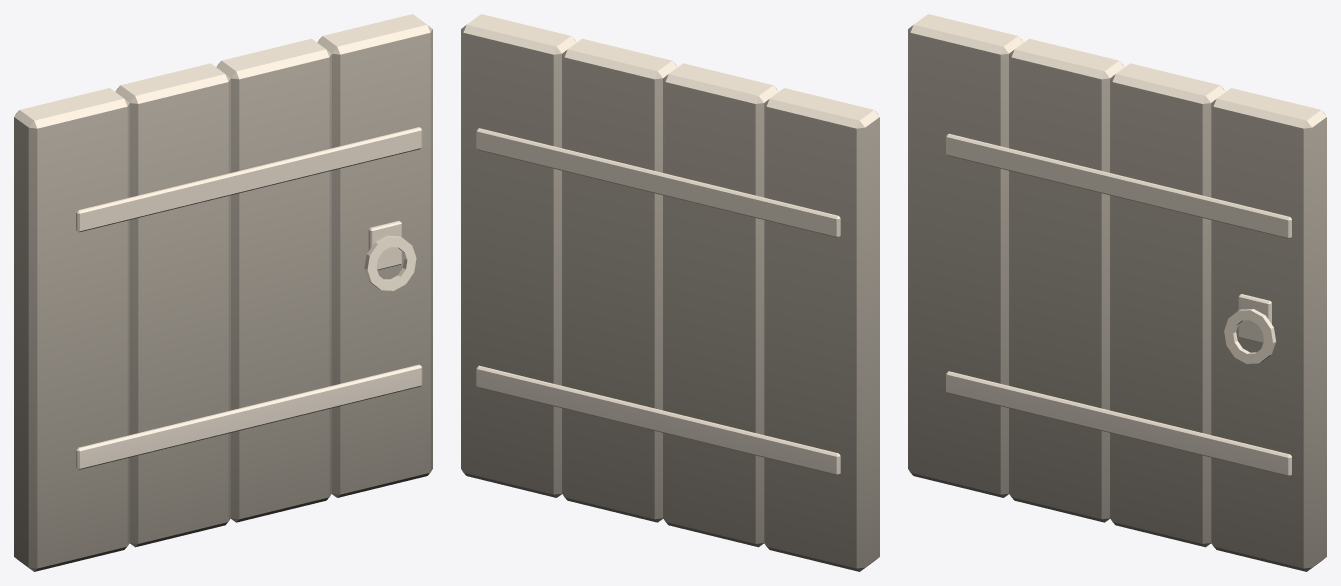
The model's file is SM_VKI_Leaf_Wide_Cut_L.fbx.
3 renders of one model, left to right at view 1: azimuth 30°, elevation 25°; view 2: azimuth 150°, elevation 25°; view 3: azimuth 330°, elevation 25°, orthographic.
Visible parts, largest first — view 1: SM_VKI_Leaf_Wide_Cut_L.001; view 2: SM_VKI_Leaf_Wide_Cut_L.001; view 3: SM_VKI_Leaf_Wide_Cut_L.001.
Boxes of the visible parts, <box> form: SM_VKI_Leaf_Wide_Cut_L.001: <box>14,14,432,571</box>; SM_VKI_Leaf_Wide_Cut_L.001: <box>461,14,879,571</box>; SM_VKI_Leaf_Wide_Cut_L.001: <box>908,14,1326,571</box>.
Size of the model in its own units: 0.89 by 0.95 by 0.1309.
